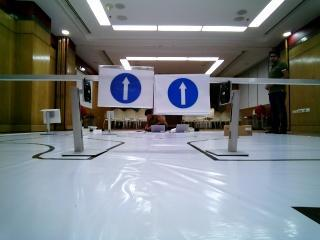straight: (154, 73, 209, 114), (102, 65, 153, 108)
